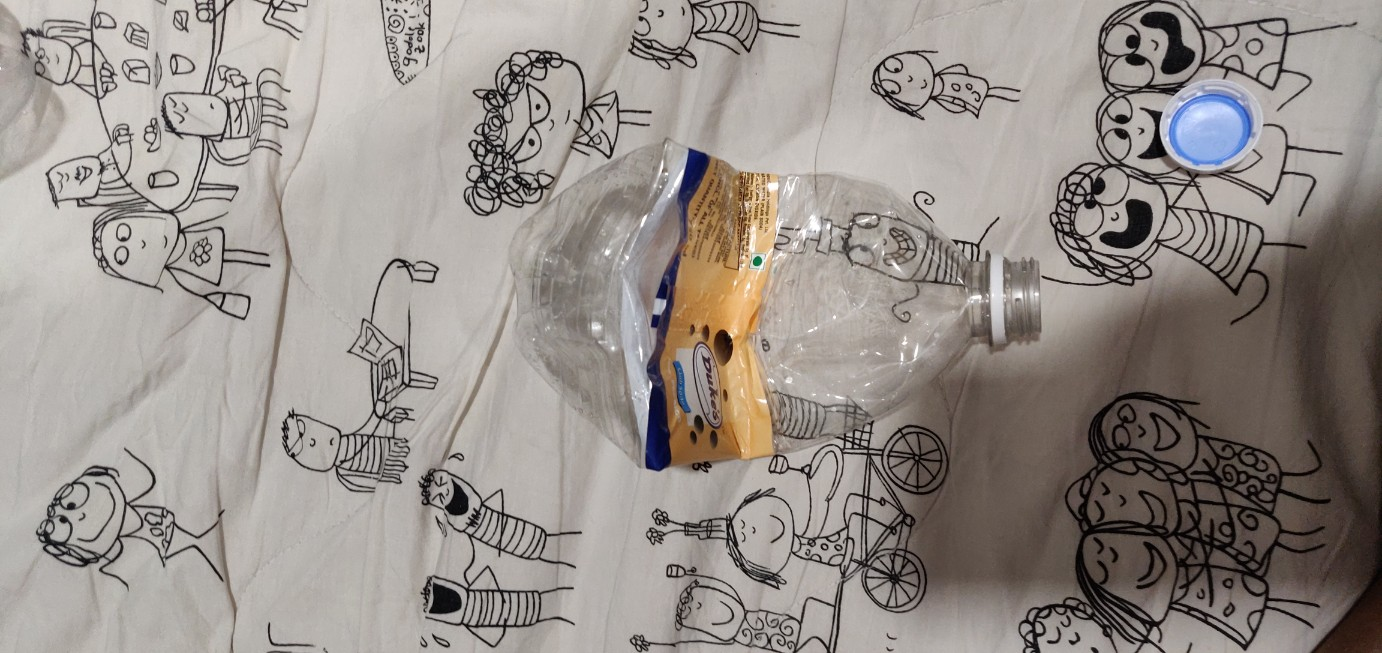Electronics: (484, 127, 1079, 485)
